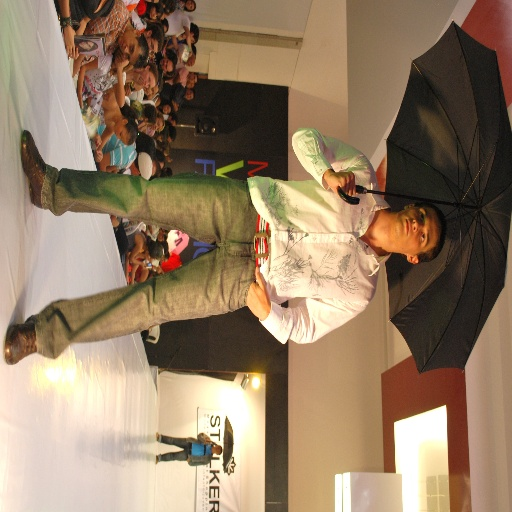hand: (327, 153, 366, 204), (246, 263, 270, 320), (114, 48, 127, 69), (63, 27, 76, 47), (64, 45, 79, 60), (132, 73, 145, 86), (92, 147, 102, 162), (77, 91, 84, 109), (93, 133, 102, 146), (175, 48, 182, 63), (156, 263, 165, 274), (204, 437, 211, 447), (165, 155, 173, 163), (140, 260, 147, 269), (185, 455, 190, 465), (126, 272, 129, 284)
